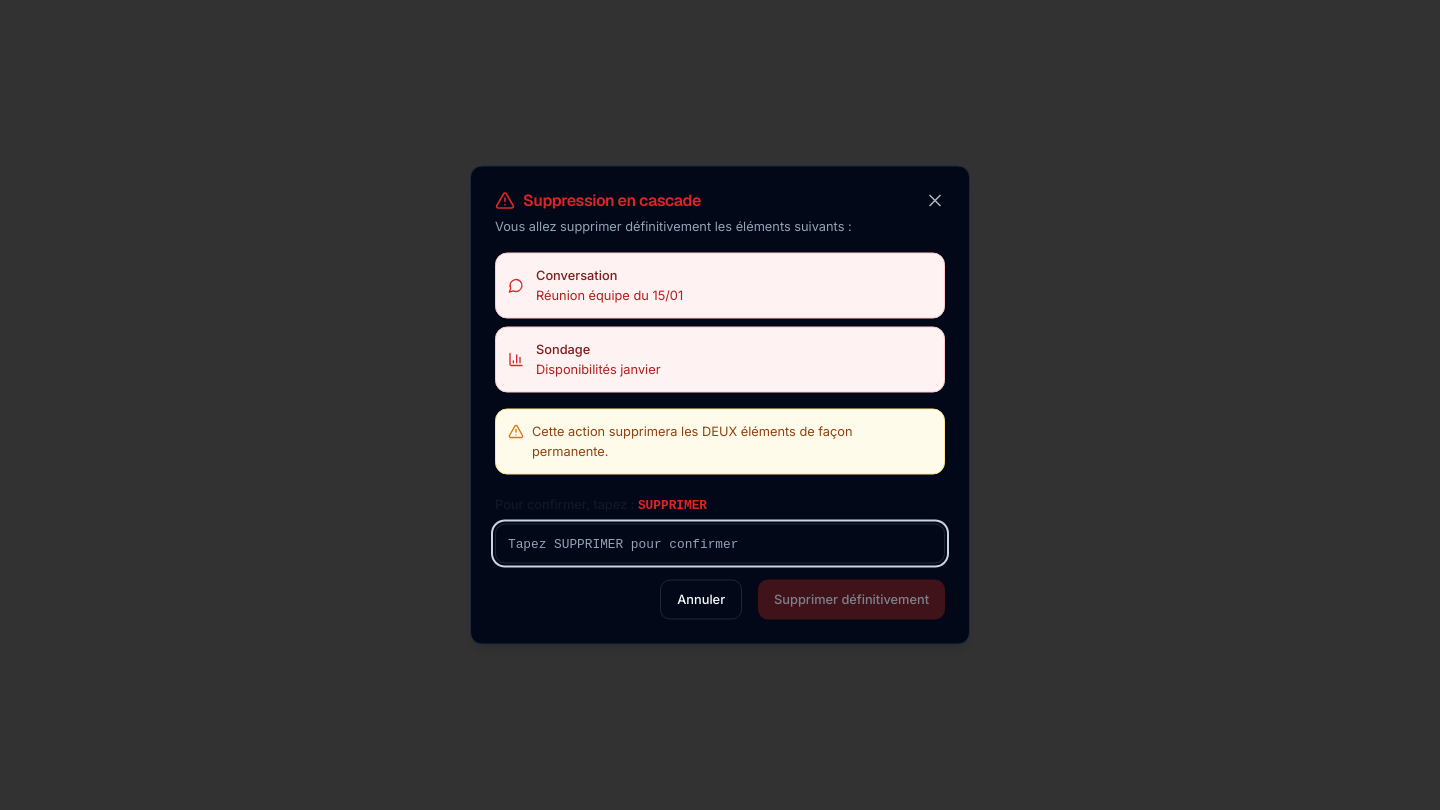
Test: CascadeDeleteModal › Validation saisie confirmation › should enable button with correct input
In the field with placeholder "Tapez SUPPRIMER pour confirmer": (720, 544) [495,524,945,564], type "SUPPRIMER"
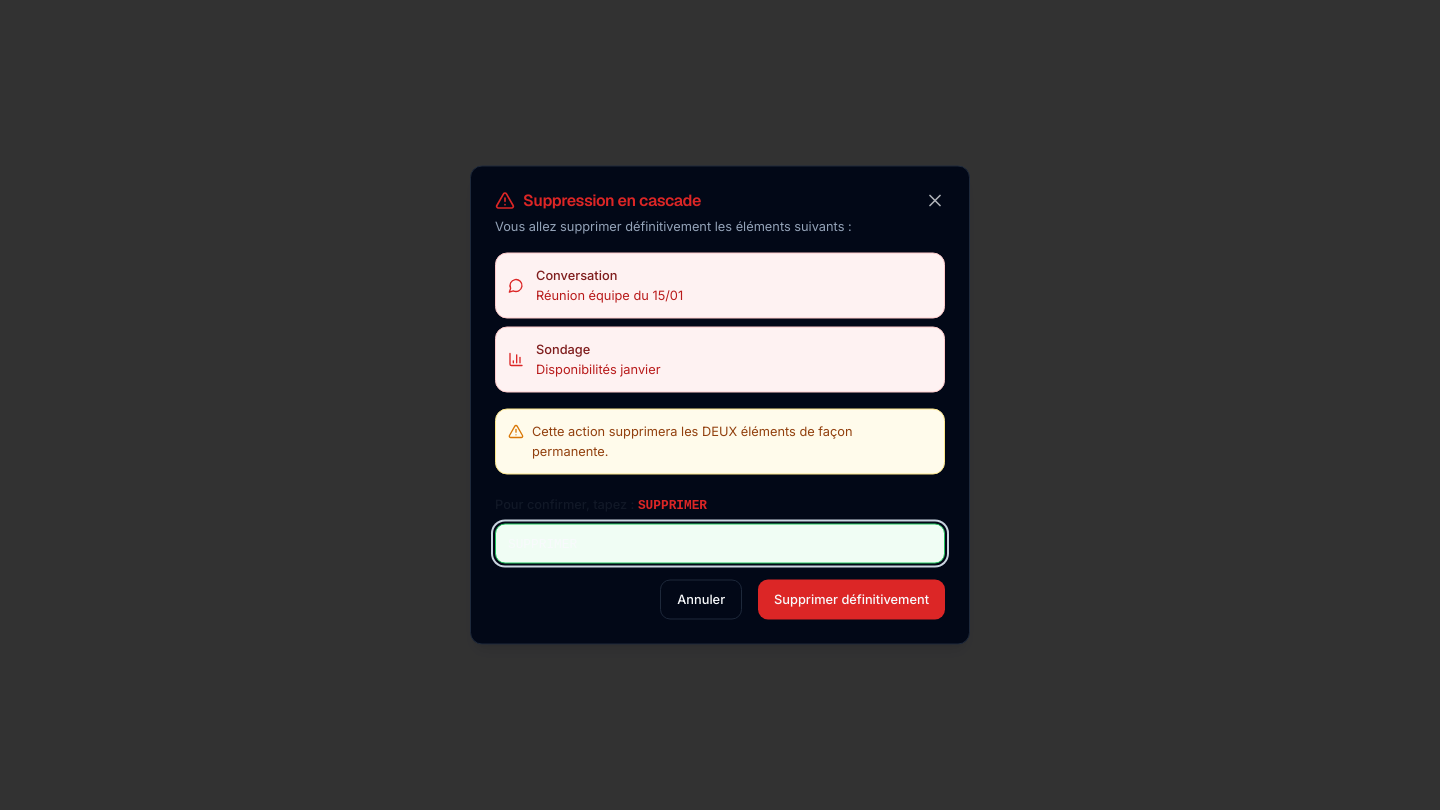
Expected: the button "Supprimer définitivement" is enabled, [758,580,945,620]
